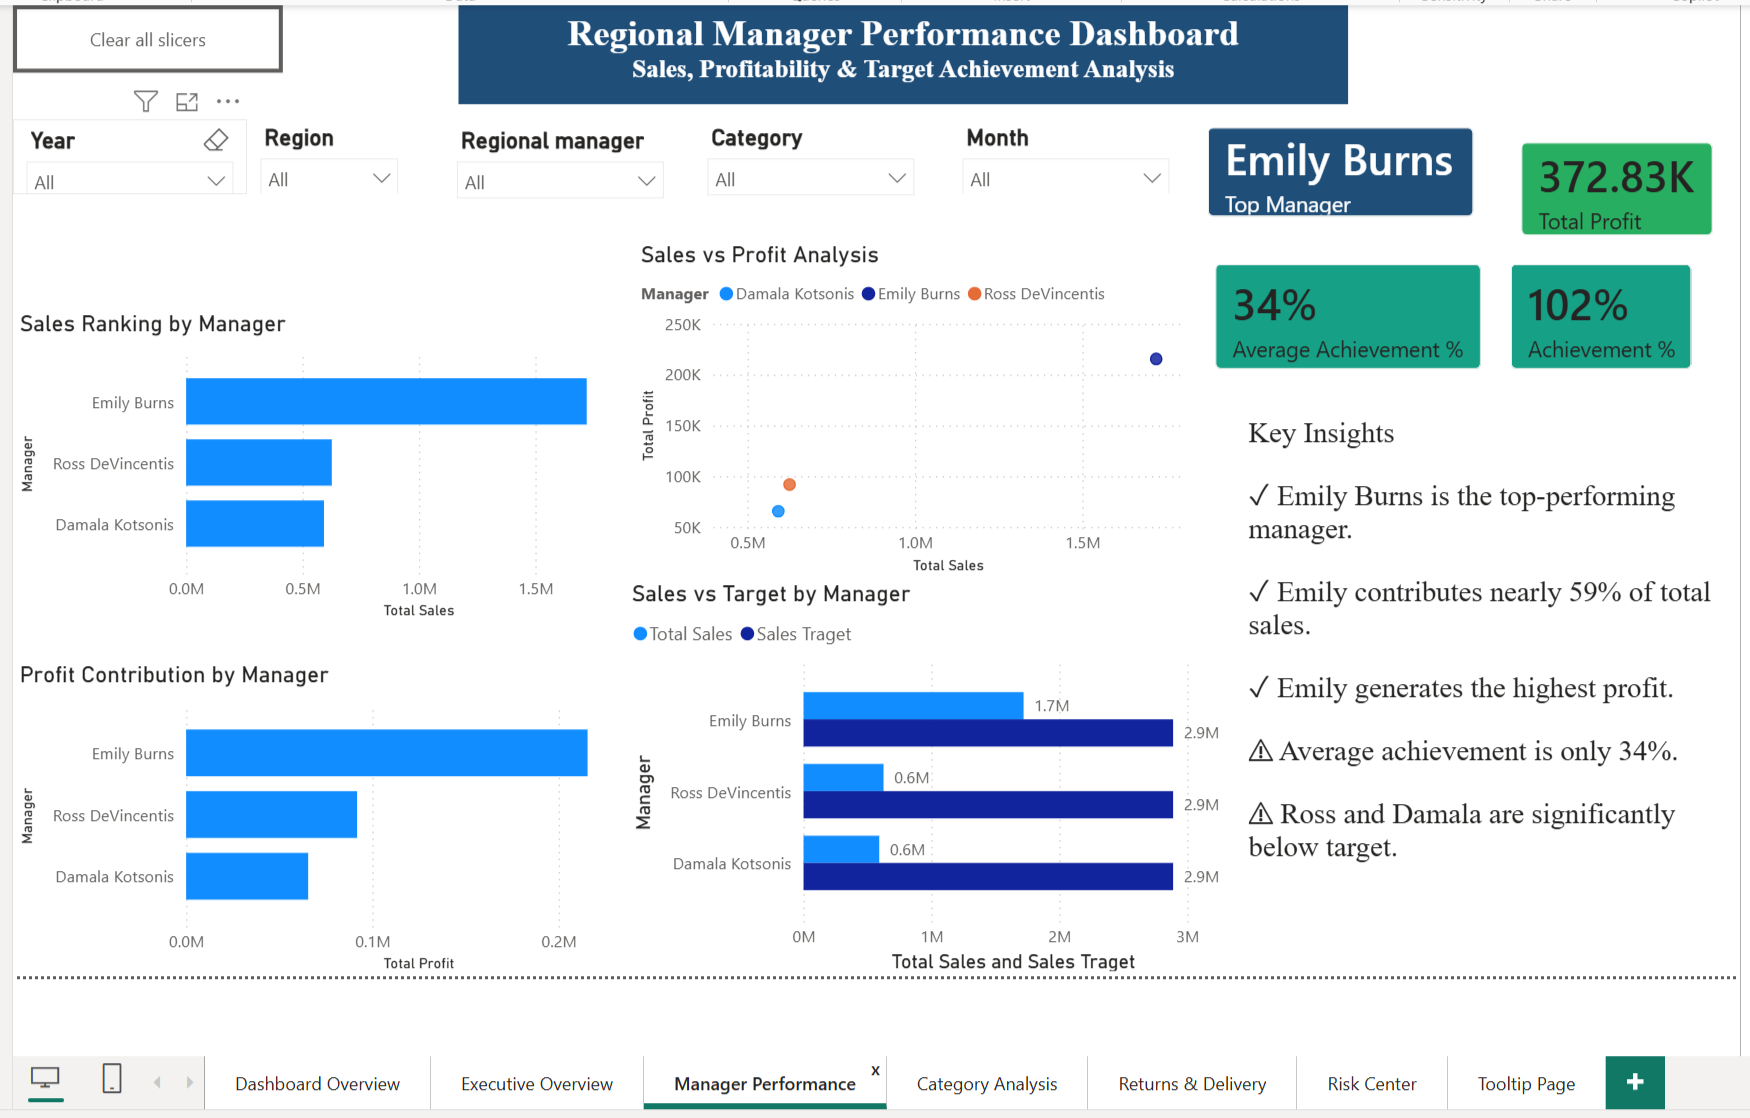

The page's visual inventory and layout, read from the dashboard file:
{"tool":"powerbi","page":{"name":"Manager Performance","canvas":[1280,720],"ordinal":2},"visuals":[{"type":"barChart","title":"Sales Ranking by Manager","fields":{"Category":["People.People"],"Y":["Date.Total Sales"]},"box":[0,225.4,492.1,233.4],"z":0},{"type":"barChart","title":"Profit Contribution by Manager","fields":{"Category":["People.People"],"Y":["Date.Total Profit"]},"box":[0,485.8,492.1,234.9],"z":1000},{"type":"scatterChart","title":"Sales vs Profit Analysis","fields":{"X":["Date.Total Sales"],"Y":["Date.Total Profit"],"Series":["People.People"]},"box":[460.4,174.6,425.4,250.8],"z":2000},{"type":"textbox","box":[329.7,0,659.5,73.6],"z":3000},{"type":"slicer","fields":{"Values":["Date.Date.Variation.Date Hierarchy.Year"]},"box":[0,84.1,173,55.6],"z":4000},{"type":"slicer","fields":{"Values":["People.Region"]},"box":[173,82.5,122.2,57.1],"z":5000},{"type":"slicer","fields":{"Values":["People.People"]},"box":[319.1,84.1,173,65.1],"z":6000},{"type":"slicer","fields":{"Values":["Fact_orders.Category"]},"box":[504.8,82.5,173,58.7],"z":7000},{"type":"slicer","fields":{"Values":["Date.Date.Variation.Date Hierarchy.Month"]},"box":[693.7,82.5,173,57.1],"z":8000},{"type":"cardVisual","fields":{"Data":["Date.Achievement %"]},"box":[1093,174.7,168.2,113],"z":9000},{"type":"cardVisual","fields":{"Data":["Date.Total Profit"]},"box":[1100.1,84.1,176.2,103.2],"z":10000},{"type":"clusteredBarChart","title":"Sales vs Target by Manager","fields":{"Category":["People.People"],"Y":["Date.Total Sales","Date.Sales Traget"]},"box":[454,425.4,457.2,295.3],"z":11000},{"type":"cardVisual","fields":{"Data":["Date.Average Achievement %"]},"box":[873.6,174.7,231.2,113],"z":12000},{"type":"cardVisual","fields":{"Data":["People.Top Manager"]},"box":[868.3,73,231.8,100],"z":13000},{"type":"textbox","box":[910.4,299.5,365.2,369.2],"z":14000},{"type":"actionButton","box":[0,0,200,50],"z":15000}]}

Visuals, with their boxes on the page's 1280x720 design canvas (x1, y1, x2, y2). These are canvas units, not pixel positions in the 1750x1118 screenshot, which may show the page scaled, cropped or inside an application window:
"Sales Ranking by Manager" barChart: rect(0, 225, 492, 459)
"Profit Contribution by Manager" barChart: rect(0, 486, 492, 721)
"Sales vs Profit Analysis" scatterChart: rect(460, 175, 886, 425)
textbox: rect(330, 0, 989, 74)
slicer - Date.Date.Variation.Date Hierarchy.Year: rect(0, 84, 173, 140)
slicer - People.Region: rect(173, 82, 295, 140)
slicer - People.People: rect(319, 84, 492, 149)
slicer - Fact_orders.Category: rect(505, 82, 678, 141)
slicer - Date.Date.Variation.Date Hierarchy.Month: rect(694, 82, 867, 140)
cardVisual - Date.Achievement %: rect(1093, 175, 1261, 288)
cardVisual - Date.Total Profit: rect(1100, 84, 1276, 187)
"Sales vs Target by Manager" clusteredBarChart: rect(454, 425, 911, 721)
cardVisual - Date.Average Achievement %: rect(874, 175, 1105, 288)
cardVisual - People.Top Manager: rect(868, 73, 1100, 173)
textbox: rect(910, 300, 1276, 669)
actionButton: rect(0, 0, 200, 50)
